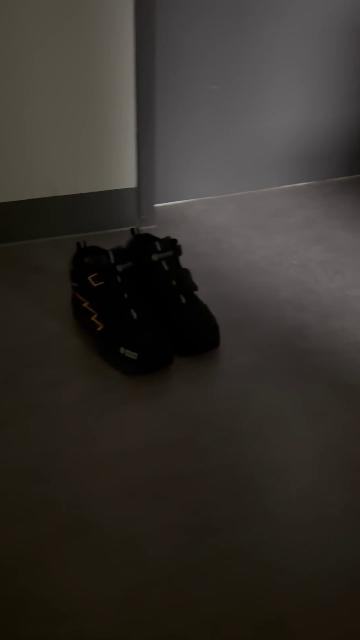shoe_worn: (112, 230, 224, 359), (71, 243, 172, 376)
